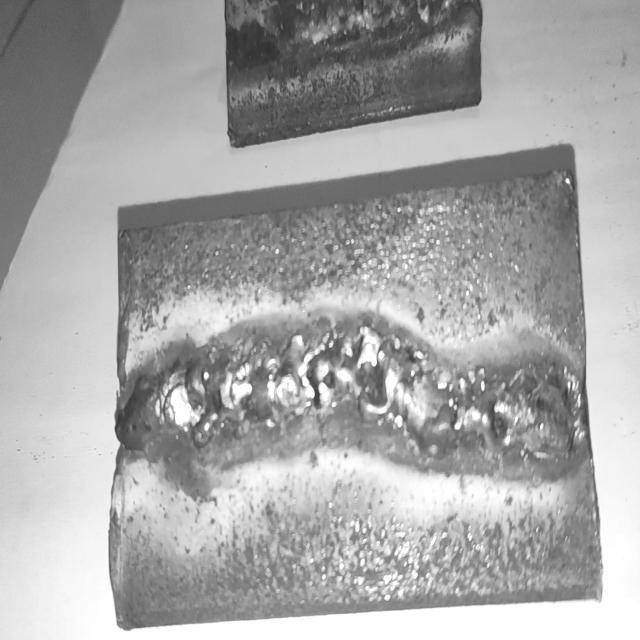Defect: (129, 316, 226, 484)
Welding Line: (132, 342, 574, 449)
Workpiece: (107, 175, 584, 620)
